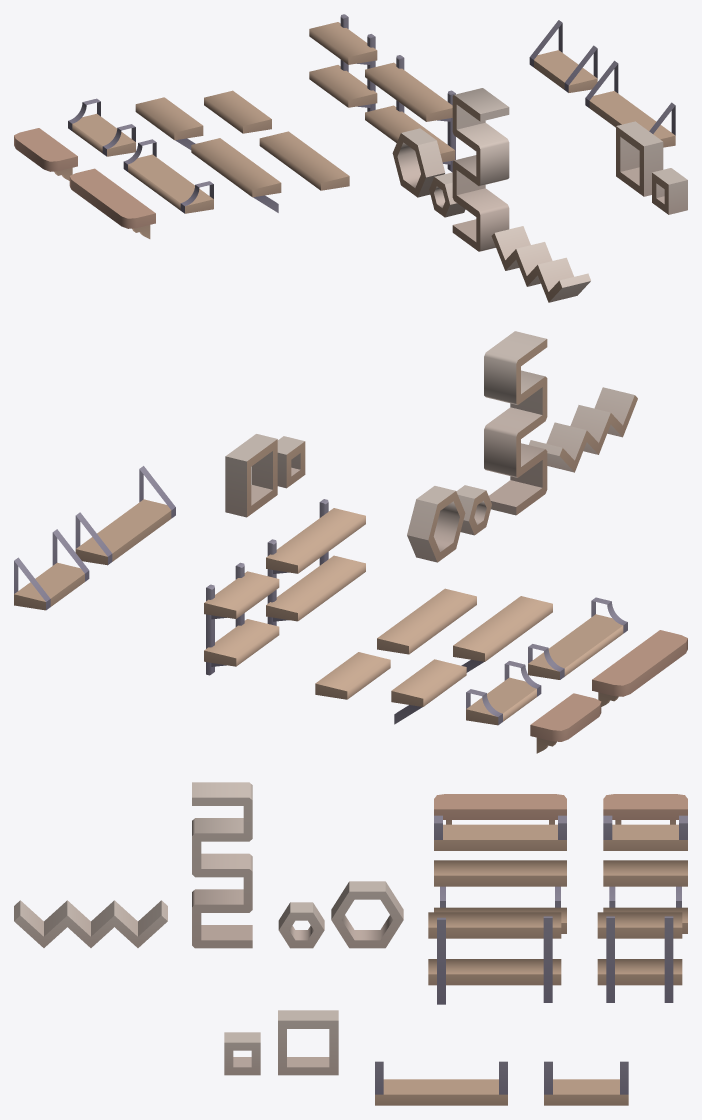
File: shelves.glb
3 renders of one model, top to bottom at view 1: azimuth 30°, elevation 25°; view 2: azimuth 150°, elevation 25°; view 3: azimuth 270°, elevation 25°, orthographic. The views are drawn at different scales.
Parts seen in each view (by area): view 1: shelf-squigly (%wall), shelf-rail-long (%wall), shelf-rail-short (%wall), shelf-zigzag (%wall), shelf-hanging-decorative-long (%wall), shelf-old-fashioned-long (%wall), shelf-support-long (%wall), shelf-cube (%wall), shelf-hexagon (%wall), shelf-hidden-long (%wall), shelf-hanging-long (%wall), shelf-hanging-short (%wall) (%thumbnail) (+6 smaller); view 2: shelf-squigly (%wall), shelf-rail-long (%wall), shelf-rail-short (%wall), shelf-zigzag (%wall), shelf-hanging-long (%wall), shelf-cube (%wall), shelf-hanging-decorative-long (%wall), shelf-old-fashioned-long (%wall), shelf-hexagon (%wall), shelf-support-long (%wall), shelf-hidden-long (%wall), shelf-hanging-short (%wall) (%thumbnail) (+6 smaller); view 3: shelf-rail-long (%wall), shelf-squigly (%wall), shelf-rail-short (%wall), shelf-zigzag (%wall), shelf-hanging-long (%wall), shelf-support-long (%wall), shelf-hanging-decorative-long (%wall), shelf-old-fashioned-long (%wall), shelf-hexagon (%wall), shelf-cube (%wall), shelf-hanging-short (%wall) (%thumbnail), shelf-support-short (%wall) (+6 smaller).
Boxes of the visible parts, x1,y1,x2,y2 form: shelf-squigly (%wall): [452, 88, 509, 251]; shelf-rail-long (%wall): [365, 55, 455, 172]; shelf-rail-short (%wall): [309, 14, 377, 111]; shelf-zigzag (%wall): [491, 226, 590, 302]; shelf-hanging-decorative-long (%wall): [123, 139, 213, 213]; shelf-old-fashioned-long (%wall): [69, 168, 155, 238]; shelf-support-long (%wall): [191, 138, 281, 212]; shelf-cube (%wall): [616, 121, 663, 196]; shelf-hexagon (%wall): [392, 128, 445, 197]; shelf-hidden-long (%wall): [259, 131, 349, 190]; shelf-hanging-long (%wall): [585, 60, 675, 147]; shelf-hanging-short (%wall) (%thumbnail): [529, 20, 597, 92]; shelf-squigly (%wall): [484, 331, 547, 515]; shelf-rail-long (%wall): [266, 499, 365, 625]; shelf-rail-short (%wall): [204, 562, 279, 675]; shelf-zigzag (%wall): [529, 387, 637, 472]; shelf-hanging-long (%wall): [75, 466, 175, 565]; shelf-cube (%wall): [225, 434, 277, 517]; shelf-hanging-decorative-long (%wall): [528, 597, 627, 679]; shelf-old-fashioned-long (%wall): [592, 630, 687, 706]; shelf-hexagon (%wall): [407, 486, 465, 562]; shelf-support-long (%wall): [453, 596, 552, 672]; shelf-hidden-long (%wall): [377, 588, 476, 654]; shelf-hanging-short (%wall) (%thumbnail): [14, 529, 89, 610]; shelf-rail-long (%wall): [428, 912, 561, 1004]; shelf-squigly (%wall): [192, 782, 252, 948]; shelf-rail-short (%wall): [597, 912, 682, 1002]; shelf-zigzag (%wall): [14, 900, 167, 947]; shelf-hanging-long (%wall): [375, 1061, 507, 1105]; shelf-support-long (%wall): [434, 860, 566, 907]; shelf-hanging-decorative-long (%wall): [434, 815, 566, 850]; shelf-old-fashioned-long (%wall): [434, 794, 566, 824]; shelf-hexagon (%wall): [331, 881, 403, 948]; shelf-cube (%wall): [278, 1010, 338, 1075]; shelf-hanging-short (%wall) (%thumbnail): [544, 1061, 628, 1105]; shelf-support-short (%wall): [603, 860, 687, 907].
Size of the model in its own units: 5.41 by 1.6 by 5.57.
